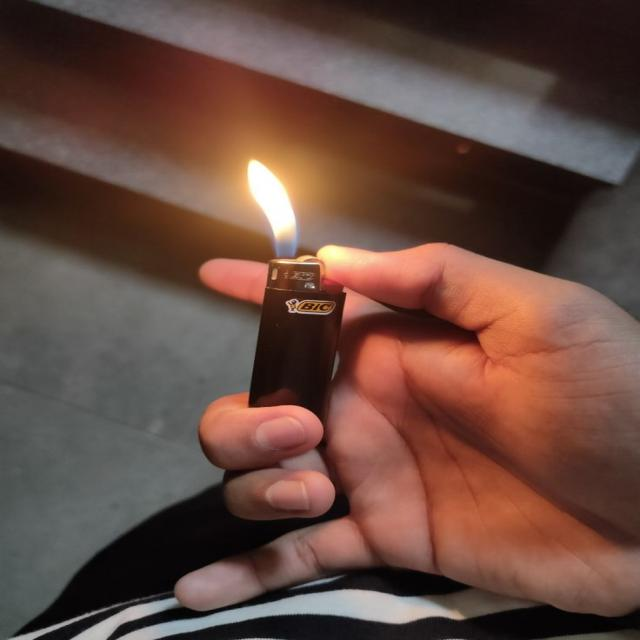fire: (248, 157, 300, 257)
